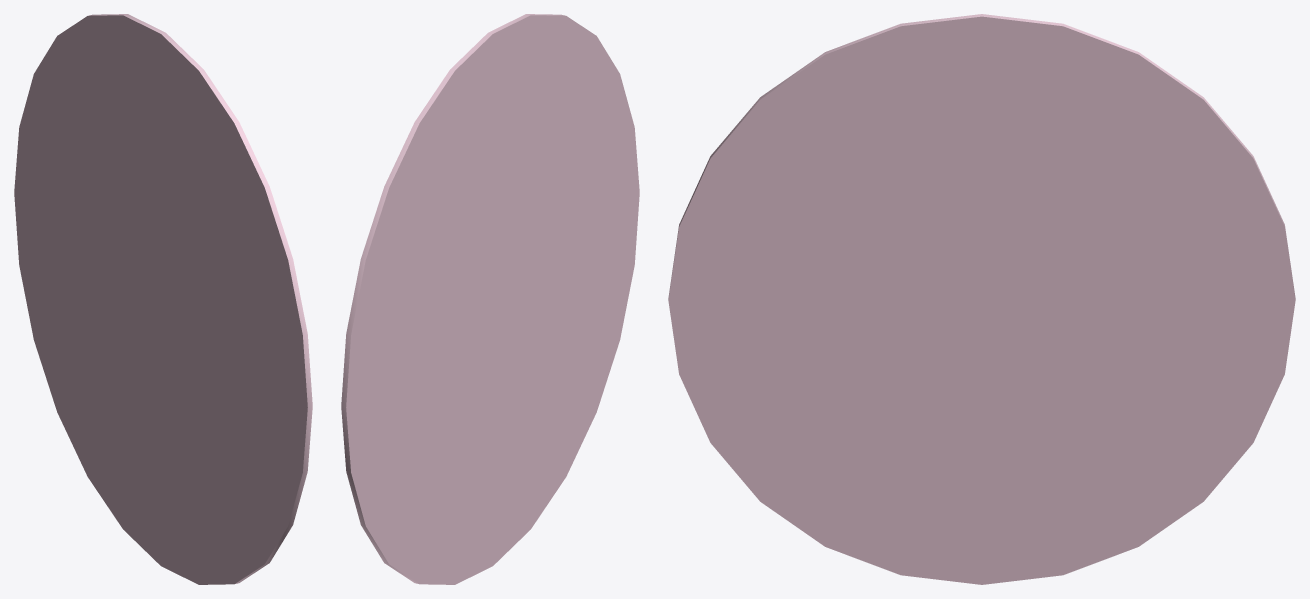
File: signstreet005a.fbx
3 renders of one model, left to right at view 1: azimuth 30°, elevation 25°; view 2: azimuth 150°, elevation 25°; view 3: azimuth 270°, elevation 25°, orthographic. The views are drawn at different scales.
Visible parts, largest first — view 1: streetsign001a_reference; view 2: streetsign001a_reference; view 3: streetsign001a_reference.
Part boxes in pixels (left/top/right/bottom): streetsign001a_reference: left=14, top=14, right=312, bottom=584; streetsign001a_reference: left=341, top=14, right=639, bottom=584; streetsign001a_reference: left=668, top=14, right=1295, bottom=584.
Bounding box in the file's own units: 23.04 × 2371 × 2371.
